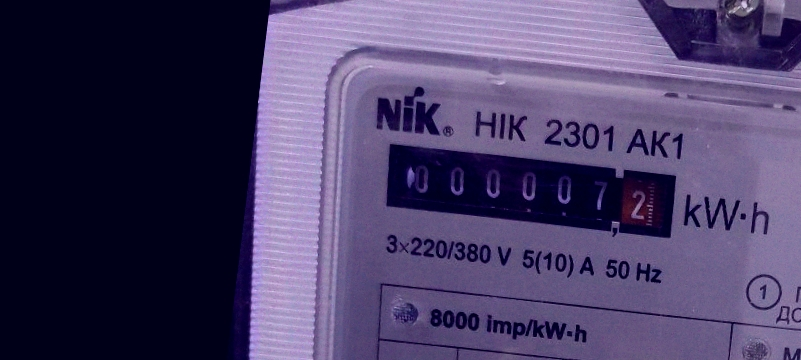0: (478, 163, 506, 203), (550, 169, 575, 208), (407, 159, 433, 196), (516, 167, 540, 206), (444, 161, 468, 199)
2: (625, 185, 650, 224)
7: (585, 175, 611, 215)
screen: (375, 132, 686, 249)
